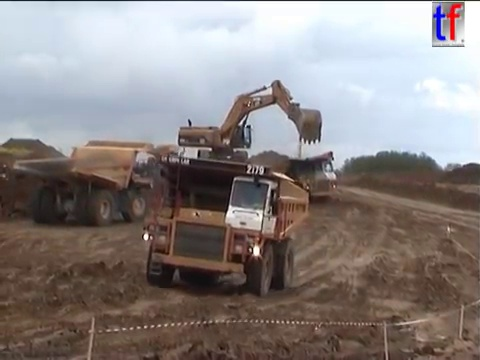excavator: (175, 78, 325, 171), (245, 149, 337, 188)
truck: (133, 151, 312, 298), (11, 145, 153, 226), (233, 155, 339, 203), (85, 140, 186, 171)
